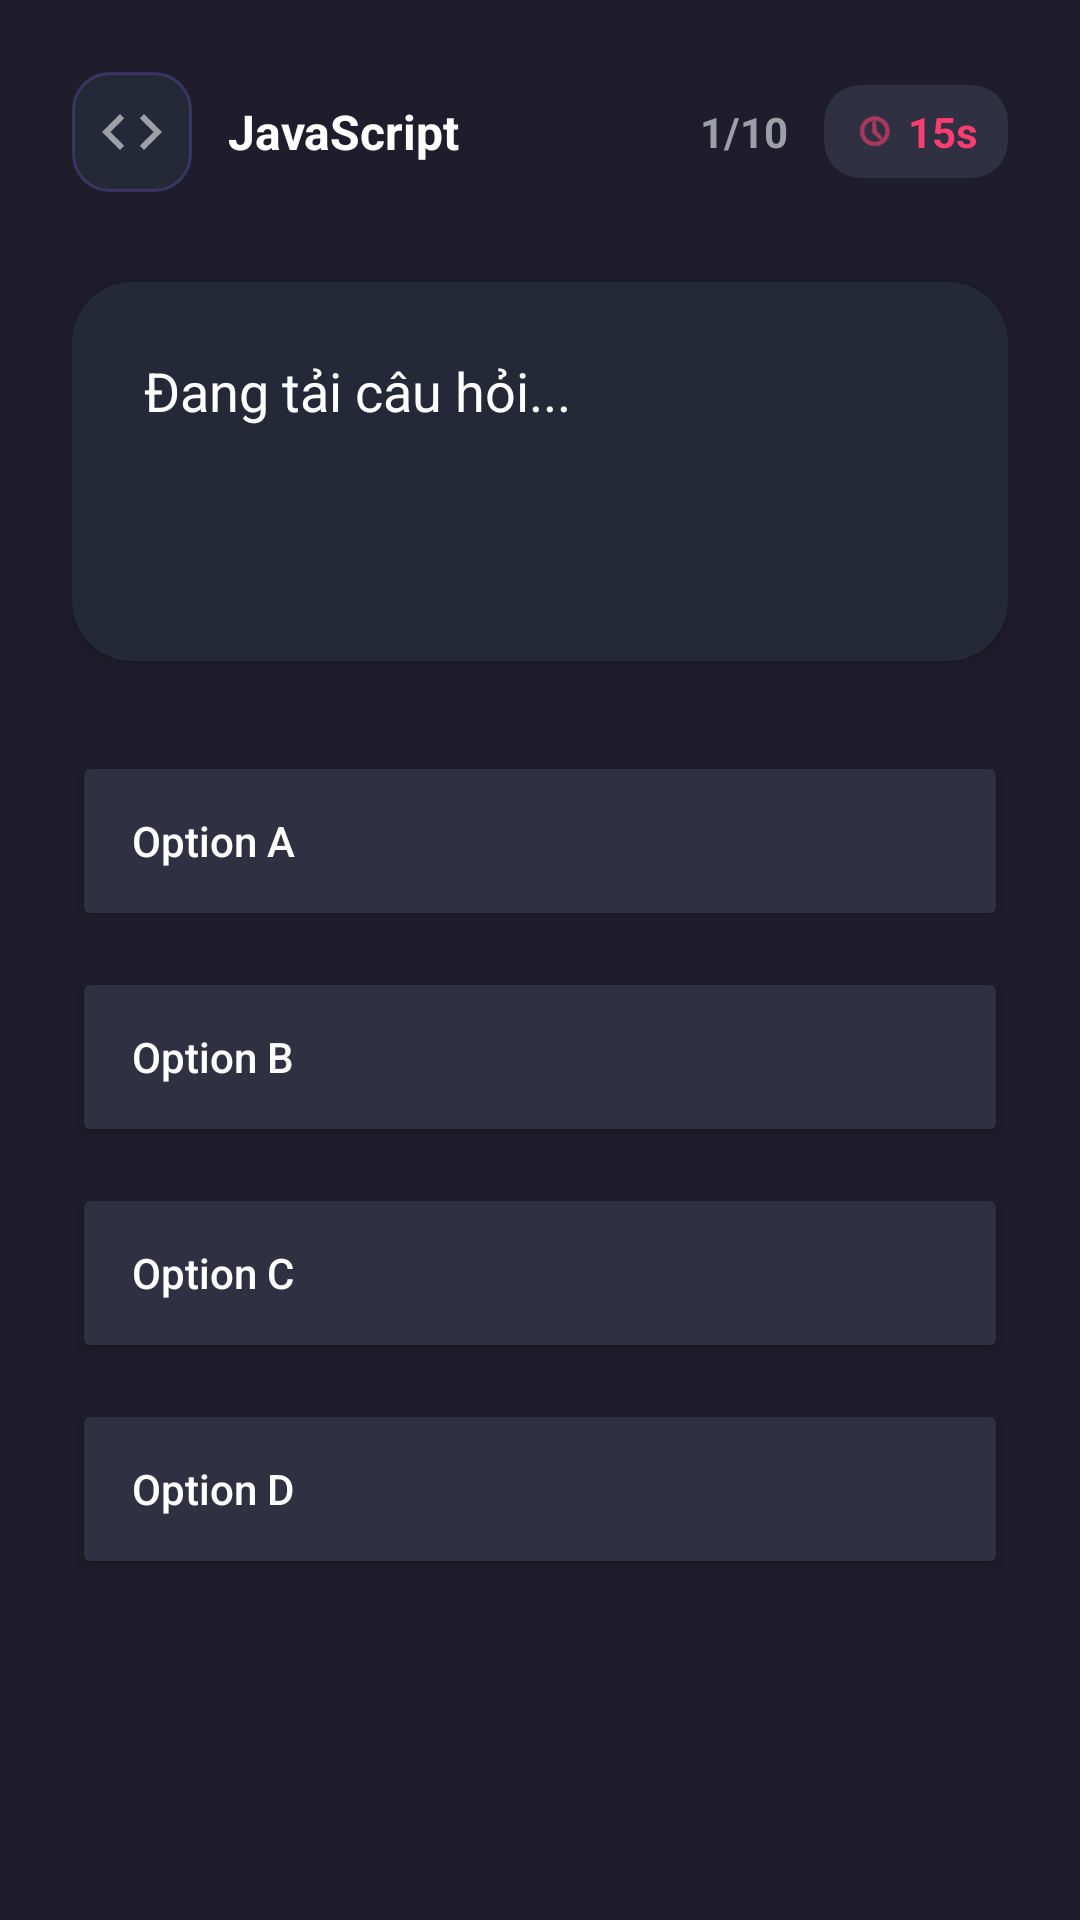

Icon bounding boxes for this 1080x1920 phone screenshot, format [x1,y1,x2,y2]:
recent history: [860,116,890,146]
